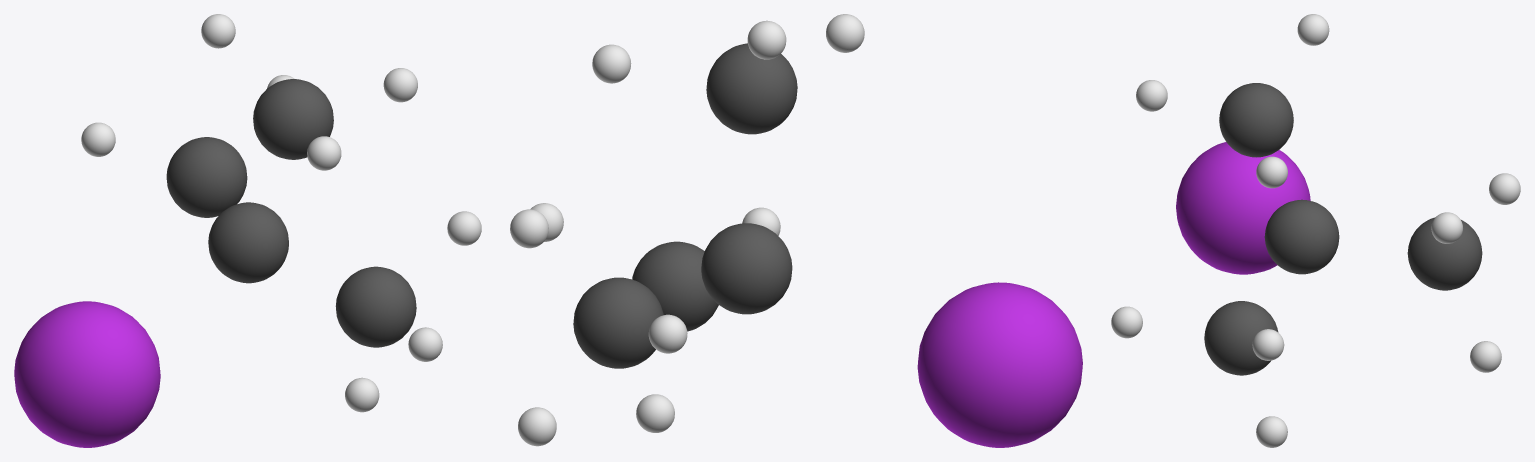
The model's file is SN1_Iodotertbutane.fbx.
3 renders of one model, left to right at view 1: azimuth 30°, elevation 25°; view 2: azimuth 150°, elevation 25°; view 3: azimuth 270°, elevation 25°, orthographic. The views are drawn at different scales.
Parts seen in each view (by area): view 1: I14, C01, C02, C06, C10, H11, H12, H08, H03, H05, H04, H13; view 2: I14, C01, C10, C06, C02, H13, H09, H08, H07, H11, H04, H12 (+2 smaller); view 3: I14, C10, C01, C02, C06, H11, H13, H03, H05, H12, H09, H08 (+2 smaller).
Part boxes in pixels (x1,y1,x2,y2): I14: (14, 301, 160, 447); C01: (208, 202, 288, 283); C02: (335, 266, 416, 347); C06: (166, 137, 247, 217); C10: (253, 79, 333, 159); H11: (201, 14, 235, 48); H12: (307, 136, 341, 170); H08: (81, 122, 115, 156); H03: (408, 327, 442, 361); H05: (447, 211, 481, 245); H04: (345, 377, 379, 412); H13: (383, 68, 417, 102); I14: (917, 282, 1082, 447); C01: (701, 223, 792, 314); C10: (706, 43, 797, 134); C06: (573, 277, 663, 368); C02: (632, 241, 718, 331); H13: (592, 44, 631, 83); H09: (510, 209, 548, 248); H08: (648, 314, 687, 353); H07: (518, 407, 556, 446); H11: (747, 20, 786, 59); H04: (636, 394, 674, 432); H12: (826, 14, 864, 52); I14: (1176, 142, 1310, 274); C10: (1219, 83, 1293, 157); C01: (1264, 199, 1339, 274); C02: (1204, 301, 1278, 375); C06: (1407, 217, 1482, 290); H11: (1297, 14, 1329, 45); H13: (1256, 156, 1287, 188); H03: (1111, 306, 1142, 338); H05: (1252, 329, 1284, 360); H12: (1136, 80, 1167, 111); H09: (1431, 212, 1462, 243); H08: (1489, 173, 1520, 204).
Bounding box in the file's own units: 502 × 417 × 411.
